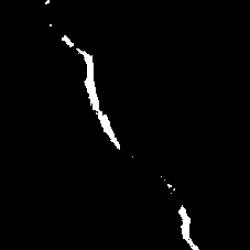crack: (78, 48, 120, 149), (180, 206, 198, 248), (162, 178, 174, 191), (61, 34, 73, 46), (46, 1, 50, 6), (50, 23, 53, 26)
